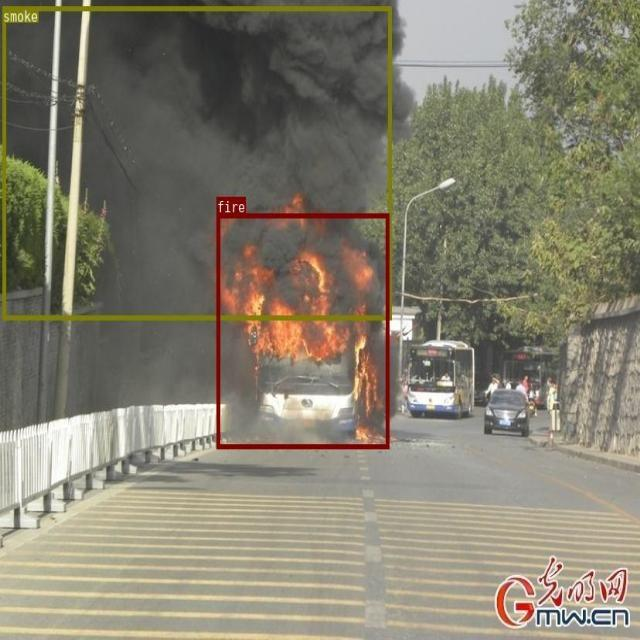fire: (216, 213, 388, 447)
smoke: (2, 5, 391, 319)
